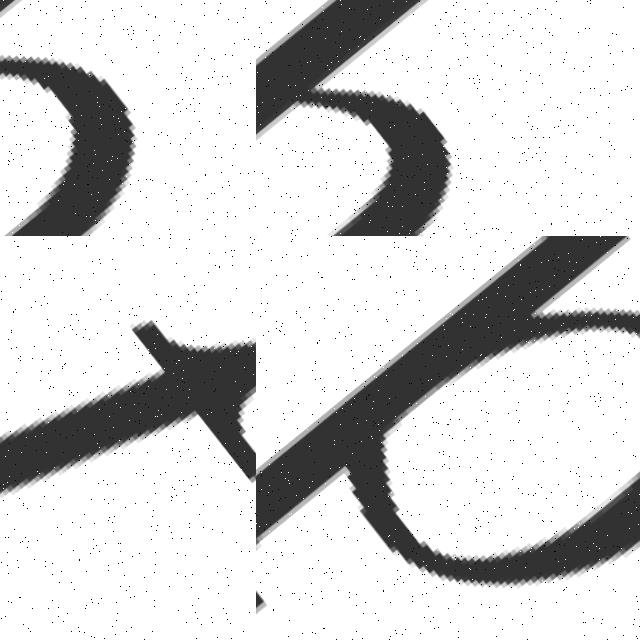B: (0, 53, 140, 236)
F: (0, 236, 256, 640)
H: (256, 0, 458, 236)
P: (256, 236, 640, 616)
